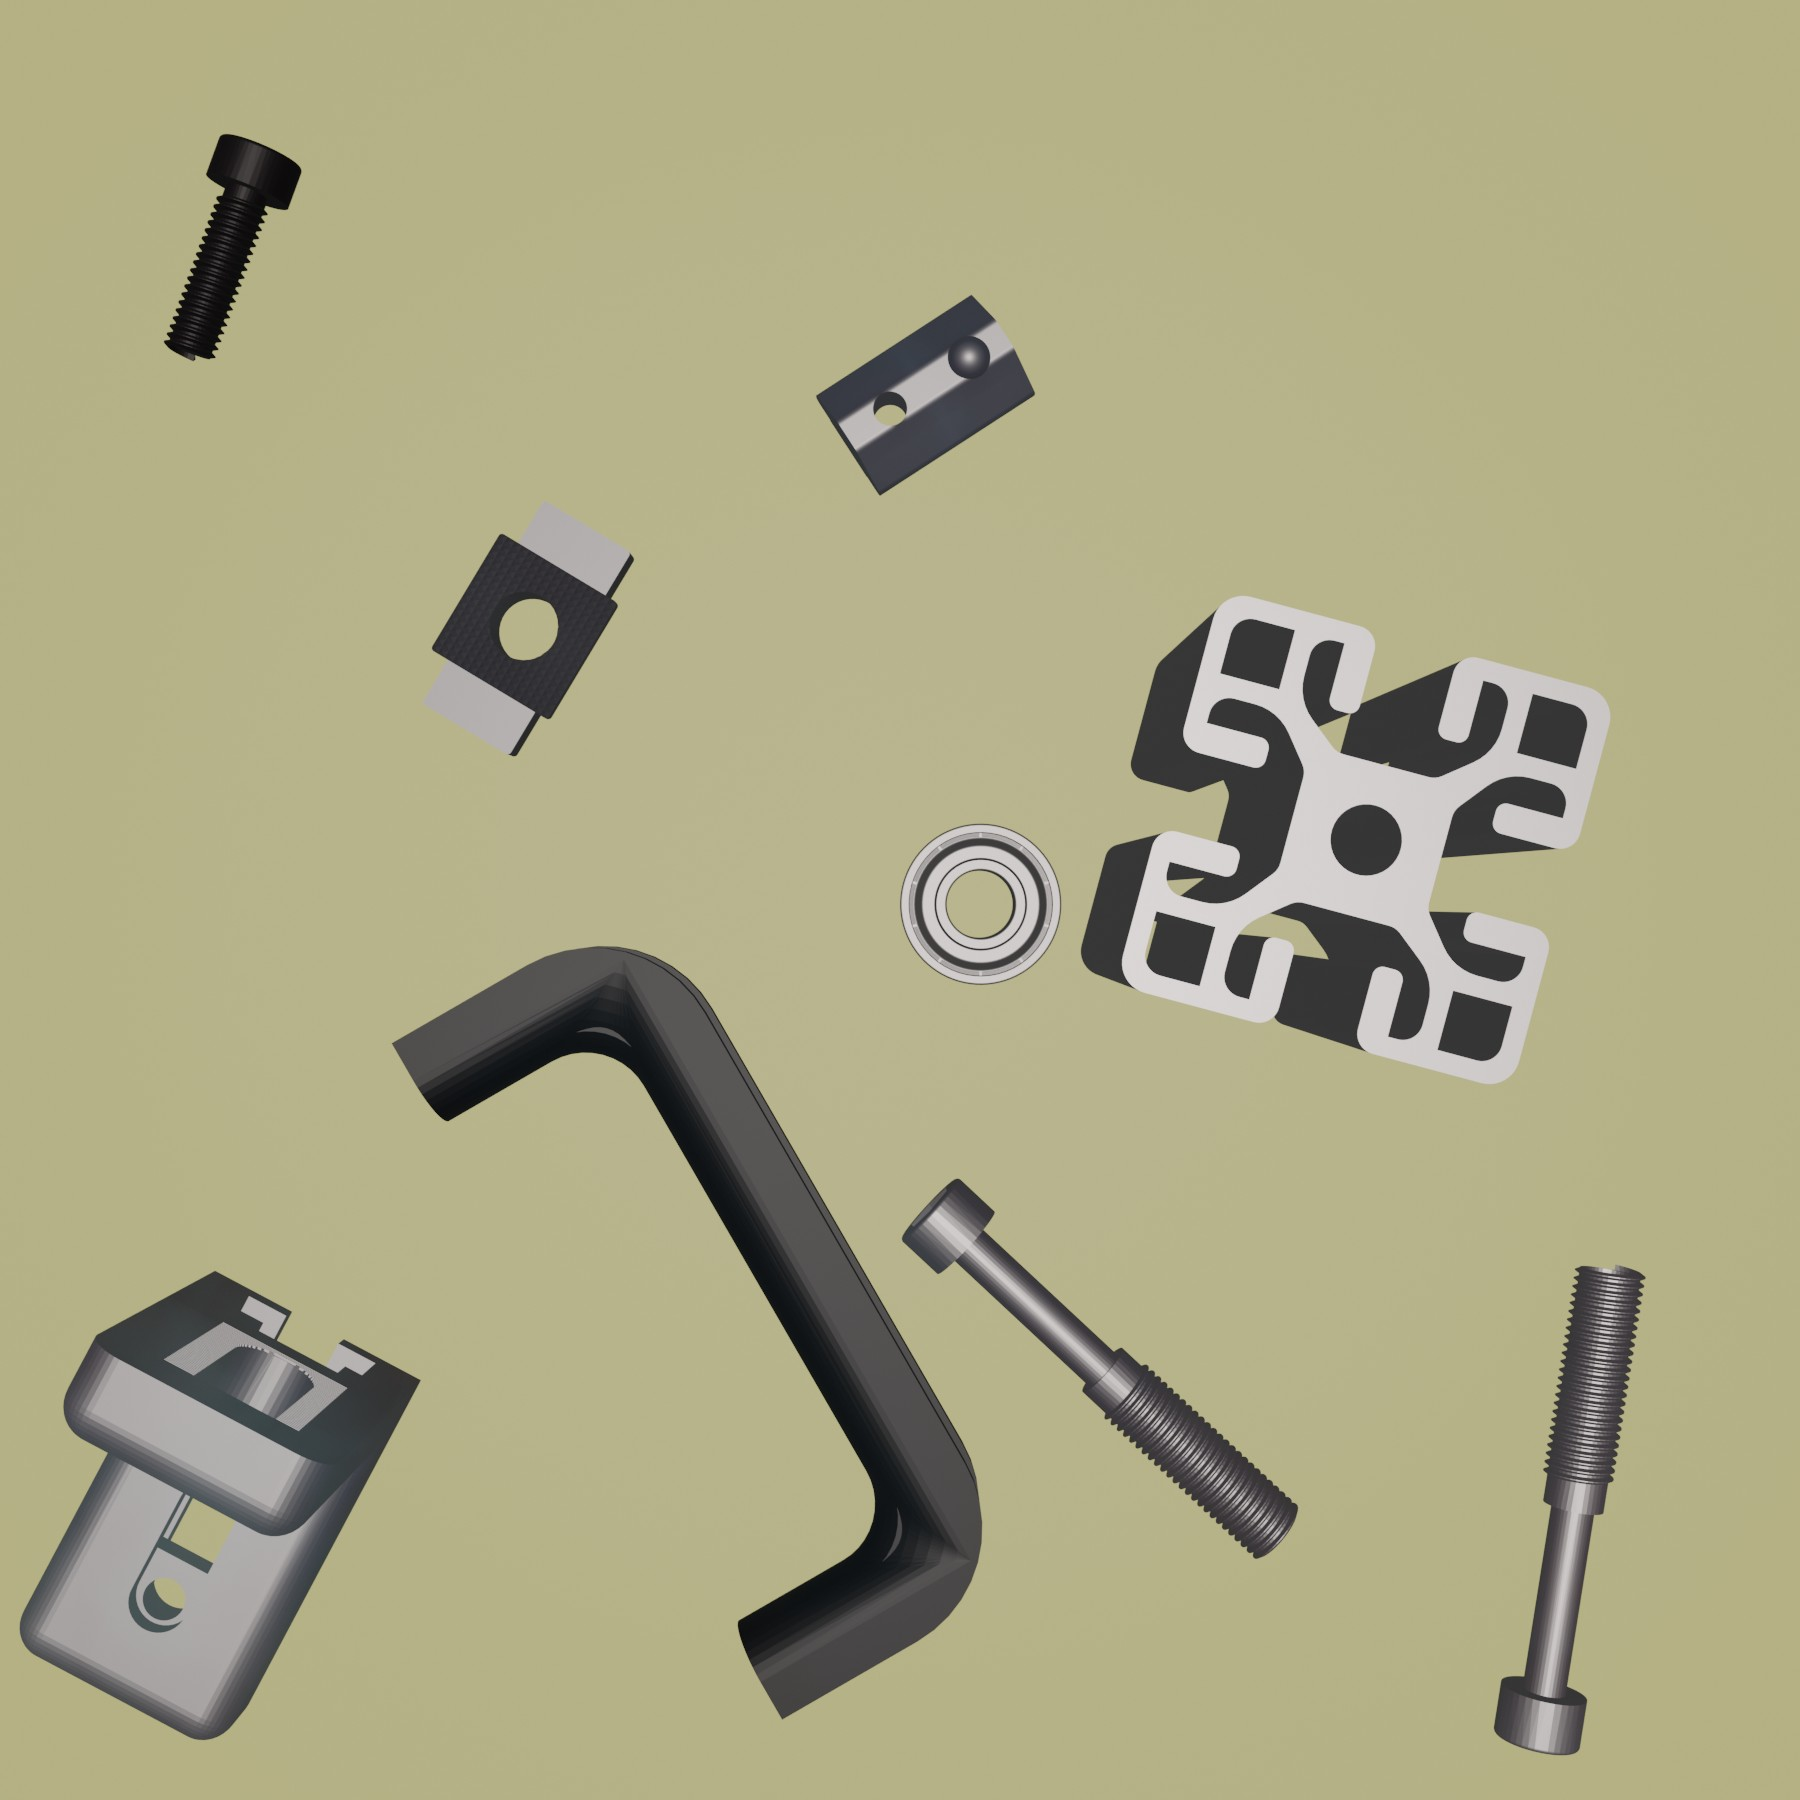Aluminium Extension: (1081, 593, 1615, 1085)
Ball Bearing: (897, 823, 1063, 987)
Multiwinkel: (20, 1269, 424, 1742)
Pull Handle: (391, 941, 982, 1723)
Shoulder Socket Head Cap Screw: (900, 1174, 1301, 1561), (1490, 1261, 1648, 1757)
Socket Head Cap Screw: (162, 130, 303, 364)
T Nut Square: (420, 491, 640, 758)
T Spring Nut: (813, 292, 1040, 499)
